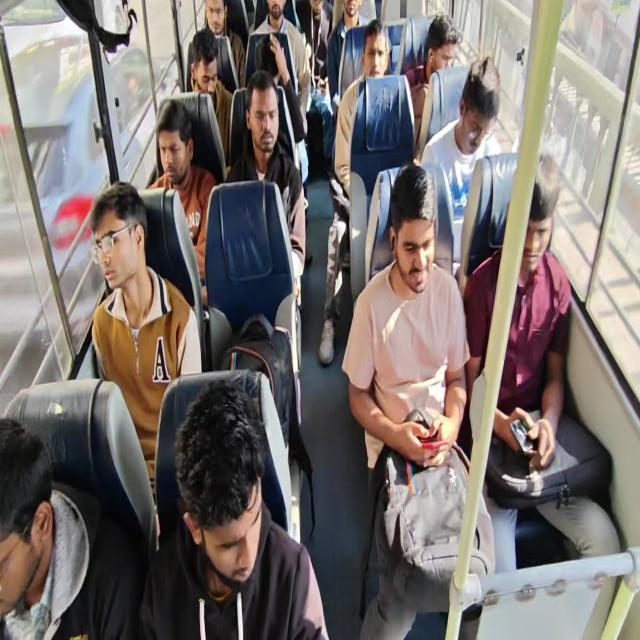person: (341, 161, 496, 638), (462, 150, 621, 576), (138, 379, 329, 639), (89, 180, 202, 505), (0, 416, 145, 639), (318, 19, 394, 365), (225, 69, 306, 306), (419, 55, 502, 272), (147, 98, 217, 306), (244, 0, 310, 194), (406, 12, 457, 153), (187, 28, 233, 166), (326, 0, 377, 118), (202, 0, 246, 93), (296, 0, 333, 92)
